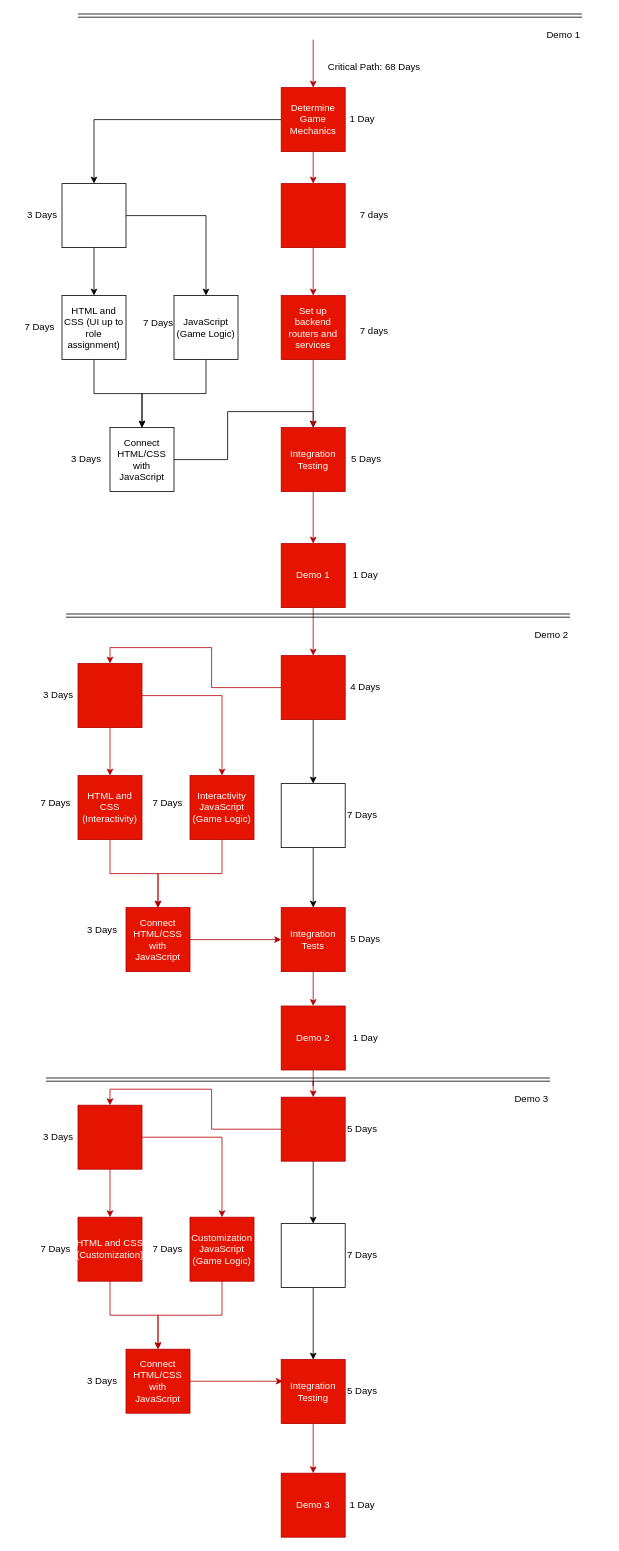
Some shapes in this 619 by 1551 pixel diagram are drawn without their labels. Here are the shapes that lost their labels. From the top down, the centre of each, then its label:
(93,215): Wireframe Game
(312,215): Set up database and basic connectivity
(109,695): Wireframe Game for interactivity
(312,687): Figure out how interactivity will work
(312,815): Set up backend for interactivity
(109,1136): Wireframe Game for custom roles/ratios
(312,1128): Figure out how custom role/ratios will work
(312,1255): Set up backend for customization
